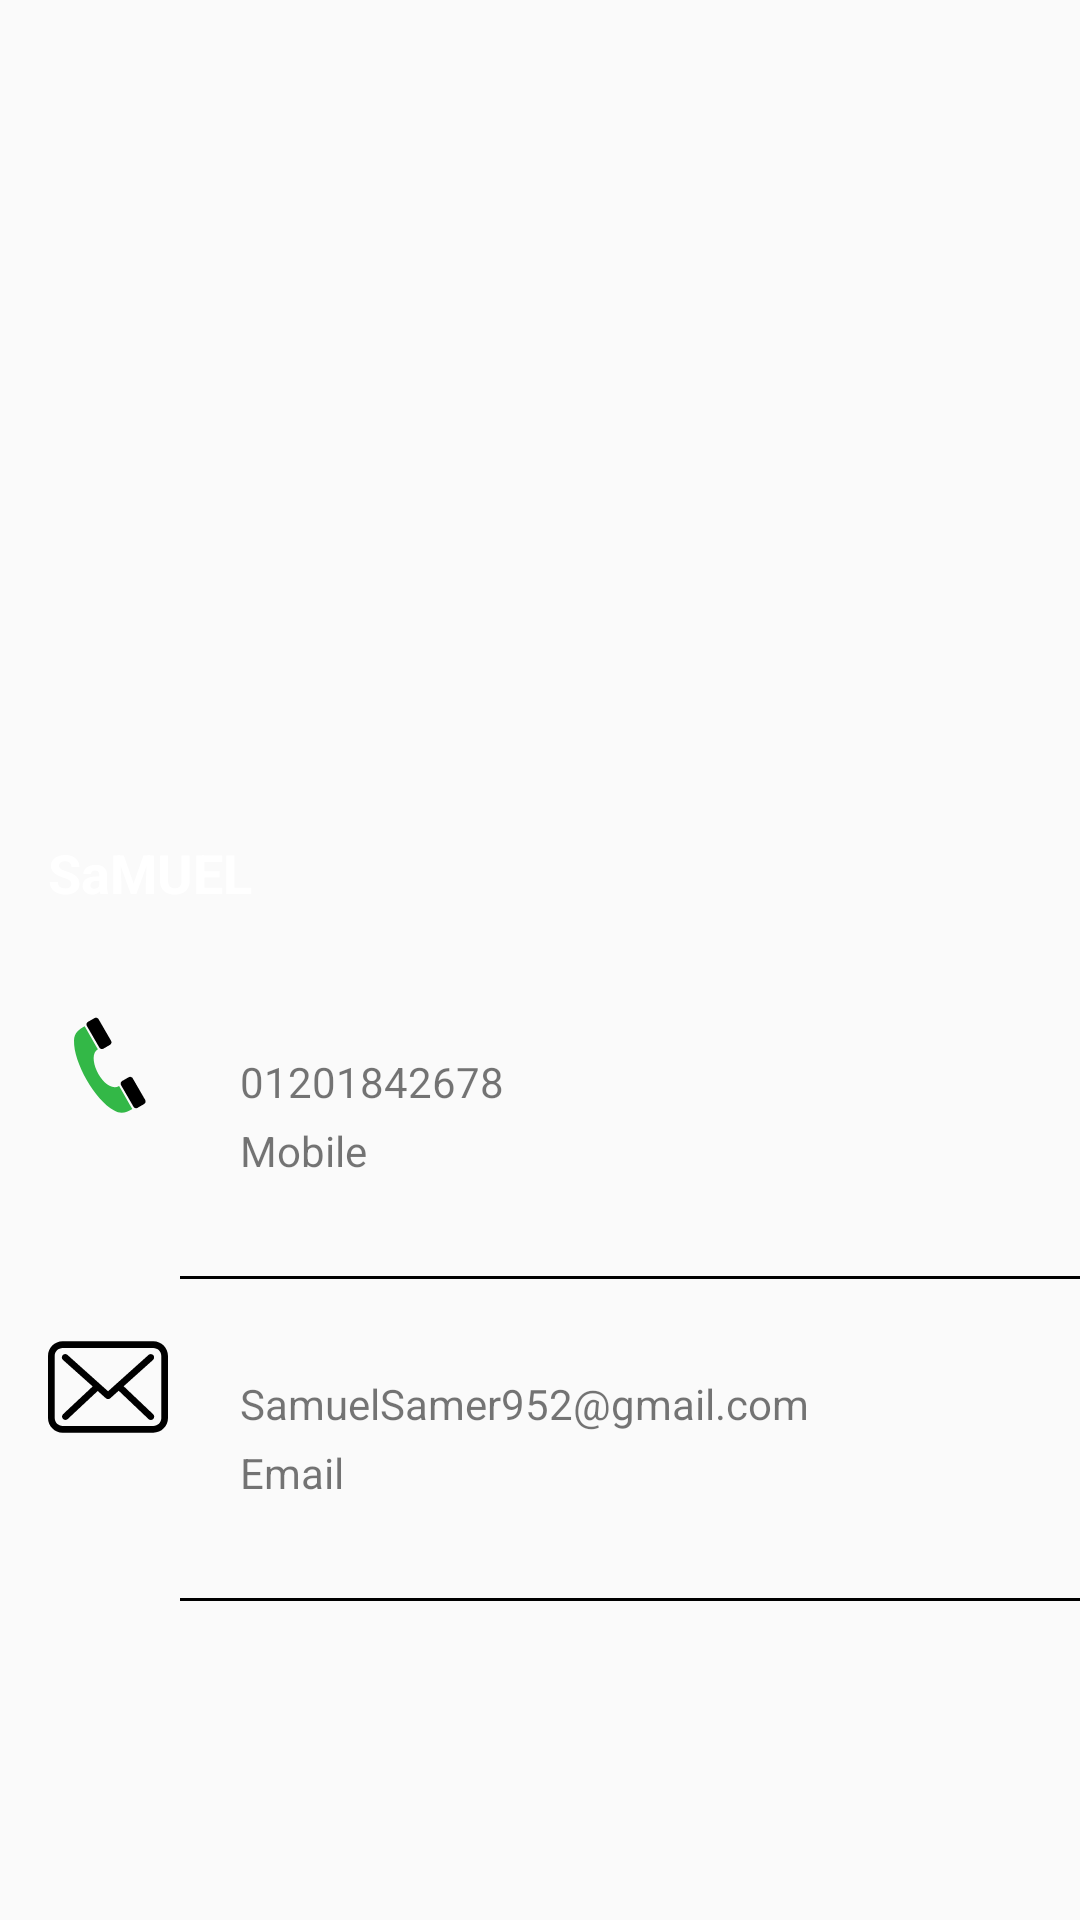

Locate icon controls on the screen. Image size 1080×1920, boxes as (x1, y1, x2, y2).
telephone: (74, 1017, 146, 1113)
